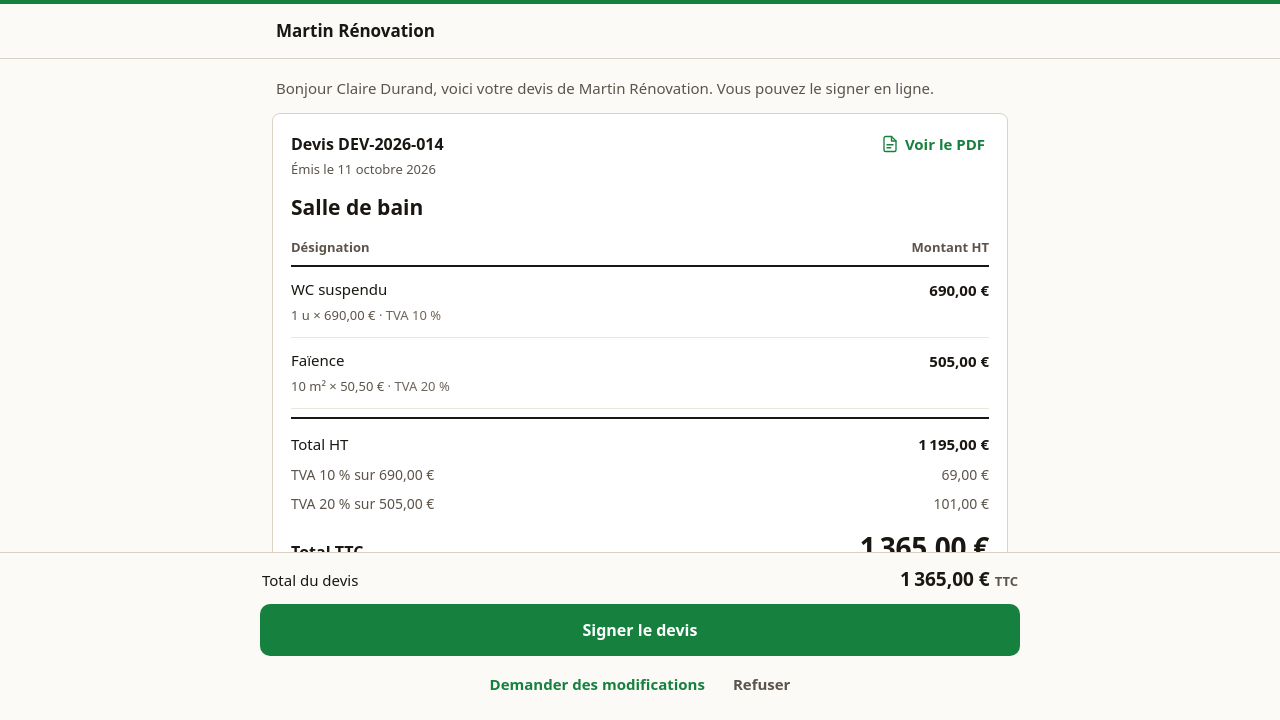
Test: Page de signature client › affiche les lignes et le total TTC du calcul unique, puis demande le code avant de signer
The width and height of the screenshot is (1280, 720).
Expected: the text "WC suspendu" is shown, x1=291 y1=279 x2=387 y2=299
Expected: the text "1 365,00 €" is shown, x1=860 y1=526 x2=989 y2=568
Click the button "Signer le devis".
click(640, 630)  # box x1=260 y1=604 x2=1020 y2=656
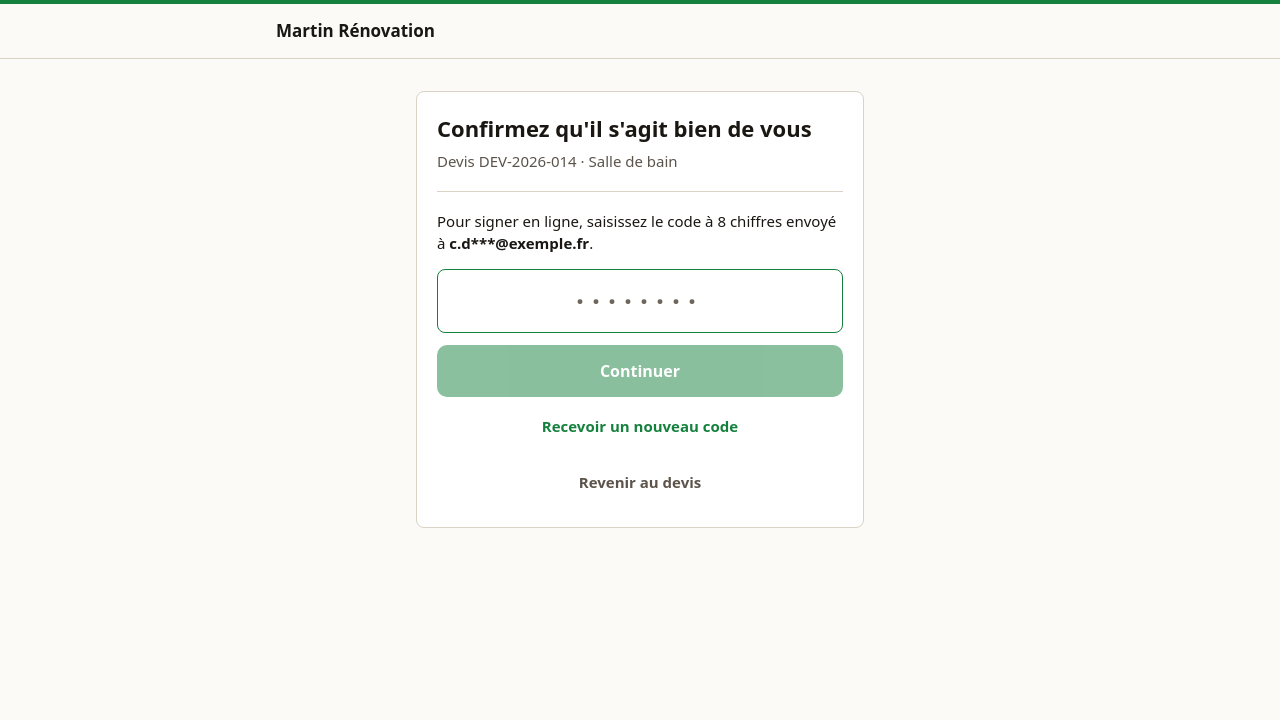
Now the heading "Confirmez qu'il s'agit bien de vous" is shown, box x1=437 y1=114 x2=843 y2=142
